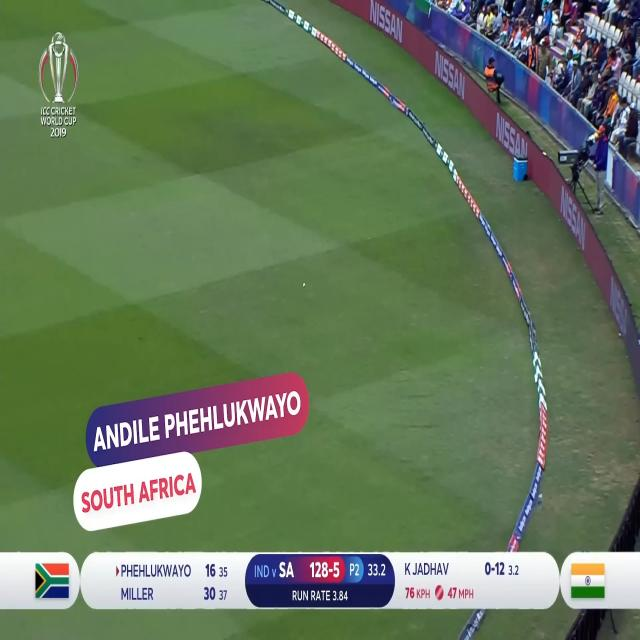ball: (302, 278, 308, 291)
